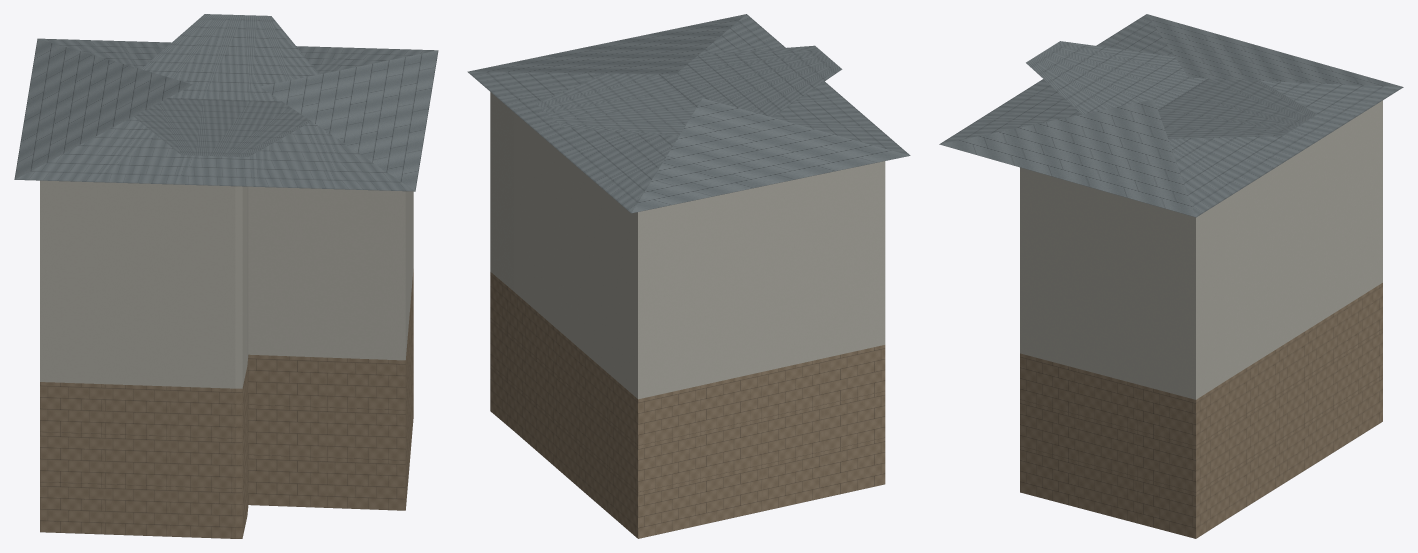
File: bld_c20_43_397.gltf
3 views of the same model, side by side, from view 1: azimuth 30°, elevation 25°; view 2: azimuth 150°, elevation 25°; view 3: azimuth 270°, elevation 25° (orthographic). The views are drawn at different scales.
Parts seen in each view (by area): view 1: bld_c20_43_397; view 2: bld_c20_43_397; view 3: bld_c20_43_397.
Part boxes in pixels (x1,y1,x2,y2): bld_c20_43_397: [14, 14, 438, 538]; bld_c20_43_397: [467, 14, 910, 538]; bld_c20_43_397: [939, 14, 1403, 538].
Size of the model in its own units: 16.01 by 13.2 by 15.45.
Materials: 3 (3 with a texture image).
